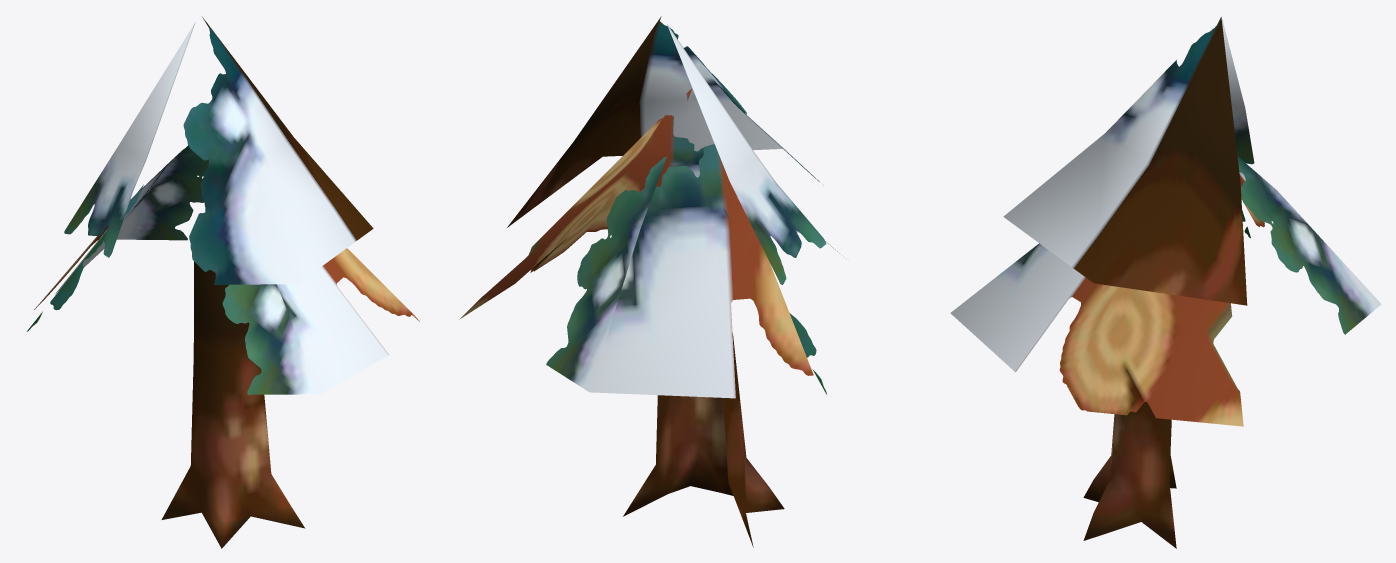
Rendered from fg_treeB_1.dae.
3 renders of one model, left to right at view 1: azimuth 30°, elevation 25°; view 2: azimuth 150°, elevation 25°; view 3: azimuth 270°, elevation 25°, orthographic. The views are drawn at different scales.
Visible parts, largest first — view 1: vsn_mesh_0_; view 2: vsn_mesh_0_; view 3: vsn_mesh_0_.
Part boxes in pixels (left/top/right/bottom): vsn_mesh_0_: left=26, top=17, right=419, bottom=548; vsn_mesh_0_: left=459, top=16, right=844, bottom=547; vsn_mesh_0_: left=950, top=17, right=1381, bottom=548.
Bounding box in the file's own units: 32.27 × 43.12 × 33.31.
